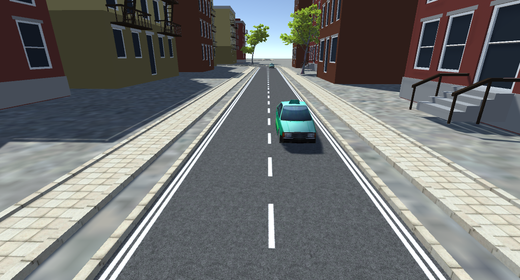centerstrip: (264, 62, 279, 253)
sidestripe: (96, 75, 253, 278), (298, 91, 442, 280)
